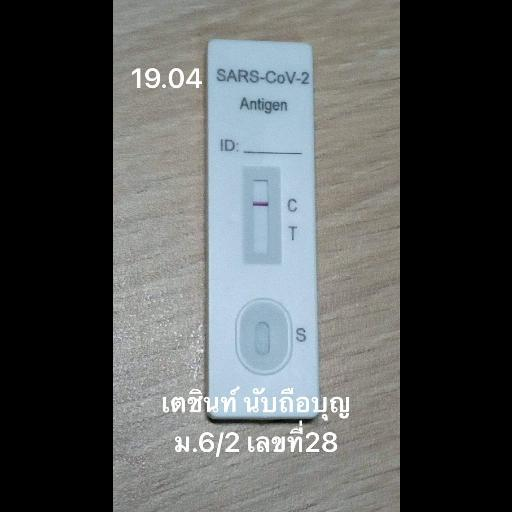Neg: (206, 38, 316, 416)
